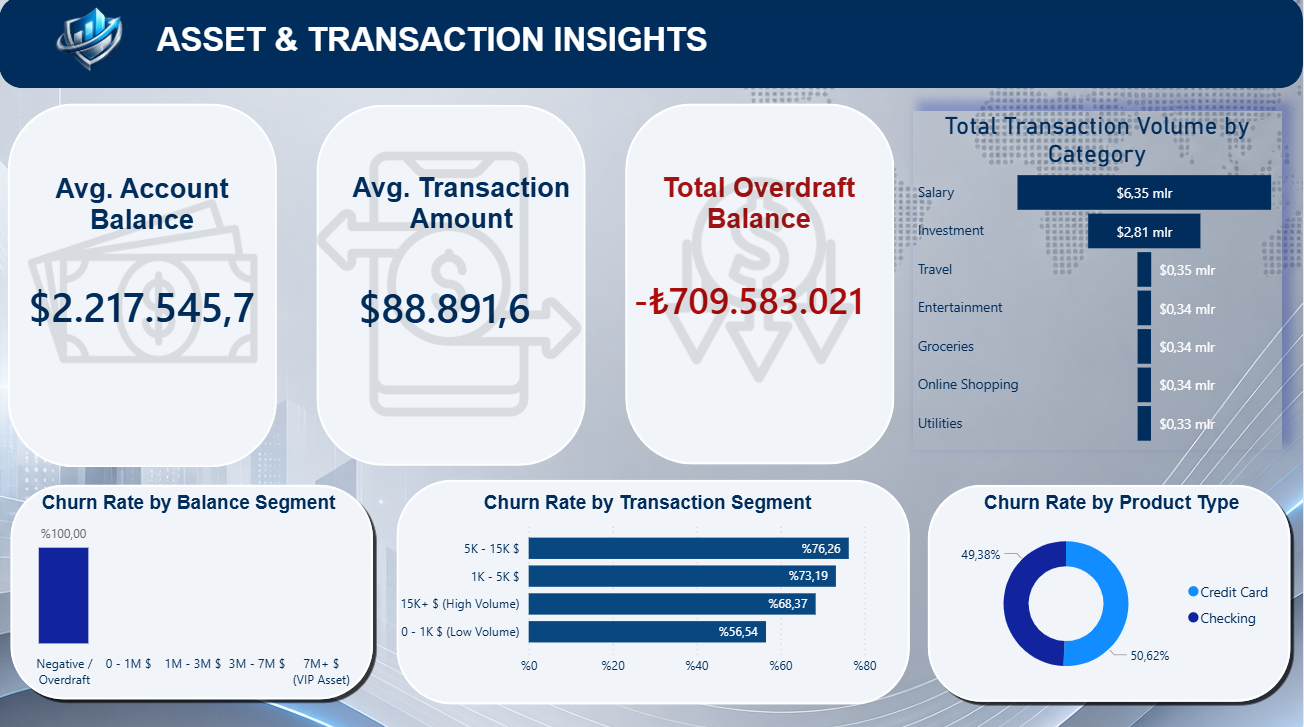

Layout of this report page (visuals, bound fields, positions):
{"tool":"powerbi","page":{"name":"2. sayfa","canvas":[1280,720],"ordinal":1},"visuals":[{"type":"shape","box":[8.2,106.1,264.3,357.1],"z":0},{"type":"shape","box":[6.2,474.8,365.9,220.5],"z":1000},{"type":"shape","box":[390.1,474.3,503.9,220.5],"z":2000},{"type":"shape","box":[0,0,1280,90.4],"z":2500},{"type":"textbox","box":[114.6,20.9,622.1,46.8],"z":3000},{"type":"cardVisual","title":"Total Customers","fields":{"Data":["Avg(Accounts.Balance)"]},"box":[0,230.4,311.7,145.4],"z":4000},{"type":"textbox","box":[12.3,168.8,256.2,73.9],"z":5000},{"type":"image","box":[28.2,121.1,225.4,317.2],"z":6000},{"type":"image","box":[15.3,2.8,147.5,90.4],"z":7000},{"type":"shape","box":[311.3,106.3,264.3,354.3],"z":8000},{"type":"cardVisual","title":"Total Customers","fields":{"Data":["Avg(Transactions.Amount)"]},"box":[324,223,232.8,160.2],"z":9000},{"type":"textbox","box":[324,167.5,259.9,75.1],"z":10000},{"type":"image","box":[311.4,105.7,260,354.3],"z":11000},{"type":"shape","box":[614.3,106.1,264.3,354.3],"z":12000},{"type":"cardVisual","title":"Total Customers","fields":{"Data":["_Measures.Total Overdraft Balance"]},"box":[593.8,215.6,303.1,160.2],"z":13000},{"type":"textbox","box":[639.4,167.5,213.1,73.9],"z":14000},{"type":"image","box":[633.2,120,225.4,317.2],"z":15000},{"type":"funnel","title":"Total Transaction Volume by Category","fields":{"Category":["Transactions.Category"],"Y":["Sum(Transactions.Amount)"]},"box":[896.9,113.3,362,332.6],"z":16000},{"type":"clusteredColumnChart","title":"Churn Rate by Balance Segment","fields":{"Category":["Accounts.Balance Segment"],"Y":["_Measures.Churn Rate %"]},"box":[0,487.1,372.1,199.6],"z":17000},{"type":"shape","box":[906.5,474.3,365.9,223],"z":18000},{"type":"donutChart","title":"Churn Rate by Product Type","fields":{"Category":["Accounts.Account_Type"],"Y":["CountNonNull(Accounts.Account_ID)"]},"box":[923.7,486.6,336.3,198.3],"z":19000},{"type":"clusteredBarChart","title":"Churn Rate by Transaction Segment","fields":{"Category":["Transactions.Transaction Segment"],"Y":["_Measures.Churn Rate %"]},"box":[379.2,486.6,515,188.5],"z":21000}]}

Visuals, with their boxes in screenshot pixels (x1, y1, x2, y2), scaled from the page's 1280x720 canvas onto the 1304x727 screenshot:
shape: [x1=8, y1=107, x2=278, y2=468]
shape: [x1=6, y1=479, x2=379, y2=702]
shape: [x1=397, y1=479, x2=911, y2=702]
shape: [x1=0, y1=0, x2=1303, y2=91]
textbox: [x1=117, y1=21, x2=751, y2=68]
"Total Customers" cardVisual: [x1=0, y1=233, x2=318, y2=379]
textbox: [x1=13, y1=170, x2=274, y2=245]
image: [x1=29, y1=122, x2=258, y2=443]
image: [x1=16, y1=3, x2=166, y2=94]
shape: [x1=317, y1=107, x2=586, y2=465]
"Total Customers" cardVisual: [x1=330, y1=225, x2=567, y2=387]
textbox: [x1=330, y1=169, x2=595, y2=245]
image: [x1=317, y1=107, x2=582, y2=464]
shape: [x1=626, y1=107, x2=895, y2=465]
"Total Customers" cardVisual: [x1=605, y1=218, x2=914, y2=379]
textbox: [x1=651, y1=169, x2=868, y2=244]
image: [x1=645, y1=121, x2=875, y2=441]
"Total Transaction Volume by Category" funnel: [x1=914, y1=114, x2=1283, y2=450]
"Churn Rate by Balance Segment" clusteredColumnChart: [x1=0, y1=492, x2=379, y2=693]
shape: [x1=923, y1=479, x2=1296, y2=704]
"Churn Rate by Product Type" donutChart: [x1=941, y1=491, x2=1284, y2=692]
"Churn Rate by Transaction Segment" clusteredBarChart: [x1=386, y1=491, x2=911, y2=682]
